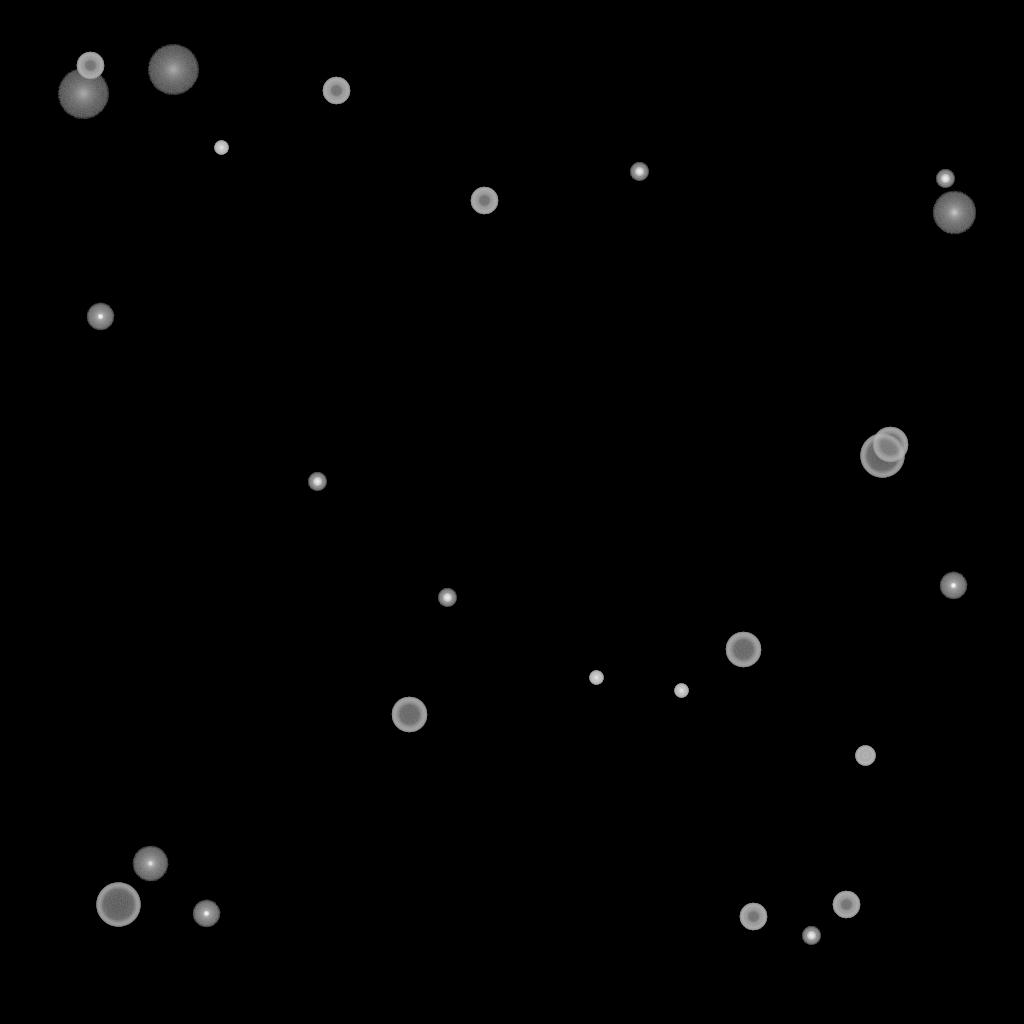depth:-10: (86, 303, 114, 331), (192, 900, 220, 928), (939, 572, 967, 600)
depth:-20: (936, 170, 954, 188), (630, 163, 648, 181), (802, 927, 820, 945), (308, 473, 326, 491), (438, 589, 456, 607)
depth:-30: (674, 684, 688, 698), (589, 671, 603, 685), (214, 141, 228, 155)
depth:-40: (855, 746, 875, 766)
depth:-50: (470, 187, 498, 215), (739, 903, 767, 931), (322, 77, 350, 105), (76, 52, 104, 80), (832, 891, 860, 919)
depth:-60: (391, 697, 427, 733), (872, 427, 908, 463), (725, 632, 761, 668)
depth:-70: (860, 434, 904, 478), (96, 883, 140, 927)
depth:0: (132, 846, 168, 882)
depth:10: (932, 191, 976, 235)
depth:20: (57, 69, 109, 119), (147, 45, 199, 95)
